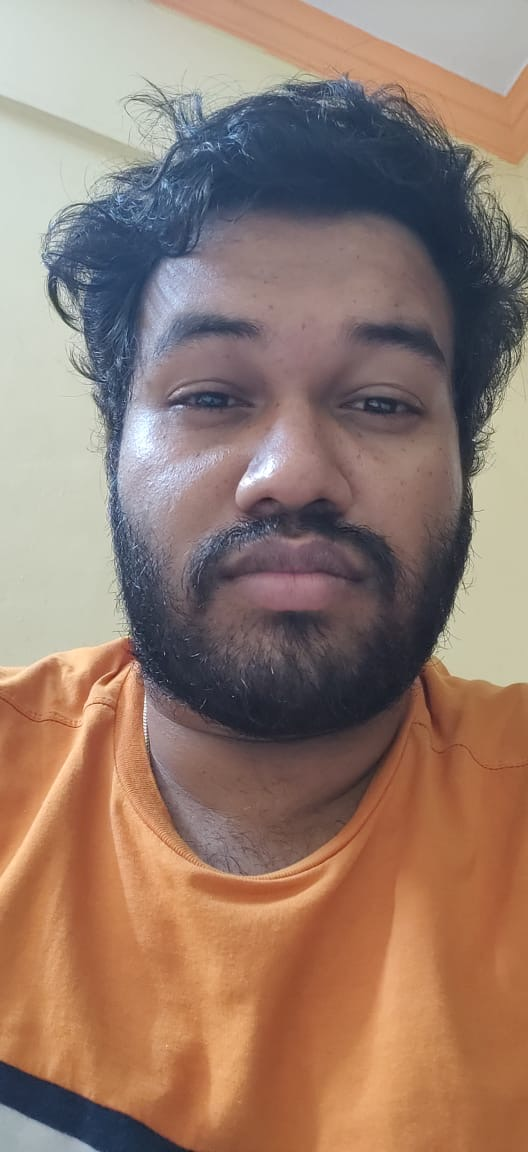Not Sleeping: (133, 353, 462, 445)
